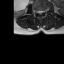CCS_normal: (39, 8, 41, 17)
LFS_normal: (43, 7, 45, 14)
LLS_normal: (41, 8, 43, 15)
RFS_normal: (35, 8, 37, 15)
RLS_normal: (37, 8, 39, 15)
